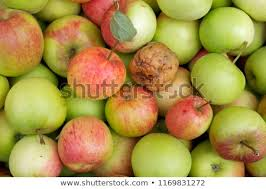apple: (48, 17, 103, 75), (101, 4, 162, 51), (67, 51, 125, 100), (186, 57, 243, 104), (9, 84, 65, 131), (58, 119, 114, 166), (153, 14, 206, 62), (212, 107, 266, 154), (1, 12, 43, 72), (135, 134, 194, 173), (204, 12, 254, 54), (11, 136, 61, 175)
damaged_apple: (128, 43, 182, 93)
